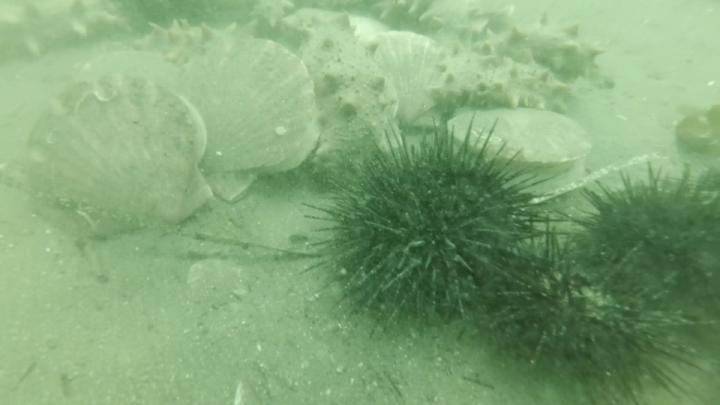echinus: (303, 116, 569, 339), (484, 217, 702, 405), (556, 157, 720, 331)
holothurian: (300, 11, 403, 191), (429, 38, 567, 110), (470, 13, 607, 82), (1, 1, 133, 68), (132, 18, 248, 63), (247, 1, 295, 30)
scallop: (21, 68, 216, 244), (177, 35, 322, 203), (440, 106, 595, 195), (372, 32, 448, 129), (419, 1, 517, 34)
